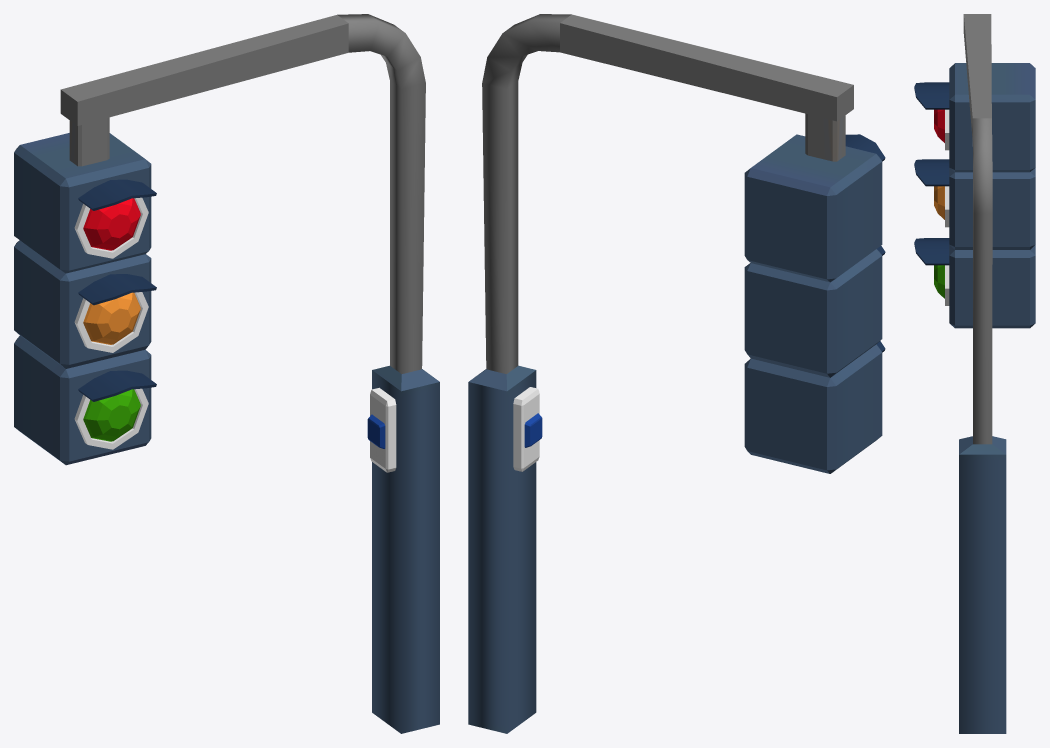
File: SM_Traffic_Light2.fbx
The picture shows the model from 3 angles, left to right: view 1: azimuth 30°, elevation 25°; view 2: azimuth 150°, elevation 25°; view 3: azimuth 270°, elevation 25°; orthographic projection. The views are drawn at different scales.
Visible parts, largest first — view 1: SM_Traffic_Light2; view 2: SM_Traffic_Light2; view 3: SM_Traffic_Light2.
Boxes of the visible parts, x1,y1,x2,y2 form: SM_Traffic_Light2: [14, 14, 439, 733]; SM_Traffic_Light2: [468, 14, 885, 733]; SM_Traffic_Light2: [914, 14, 1035, 733].
Bounding box in the file's own units: 382 × 683 × 129.
